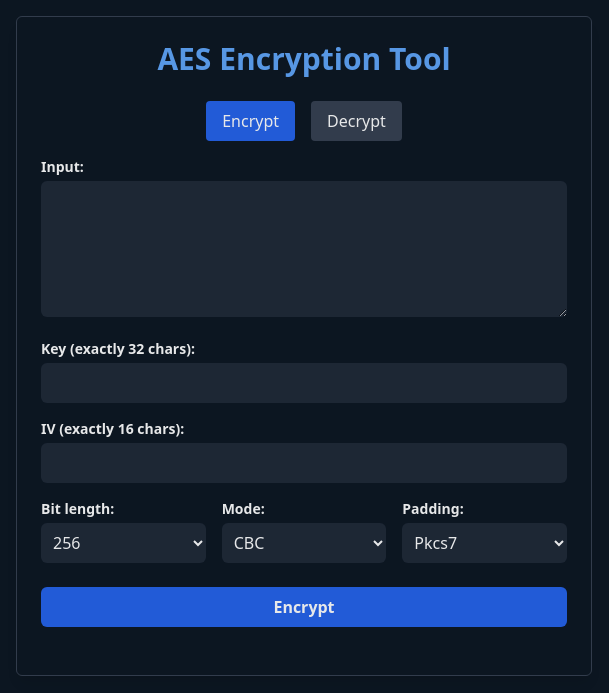
Scenario: EncryptionTool component › does not show IV input in ECB mode
# change mode to ECB
Select "ECB" in the dropdown labelled "Mode:" at (304, 543), box [222,523,386,563]
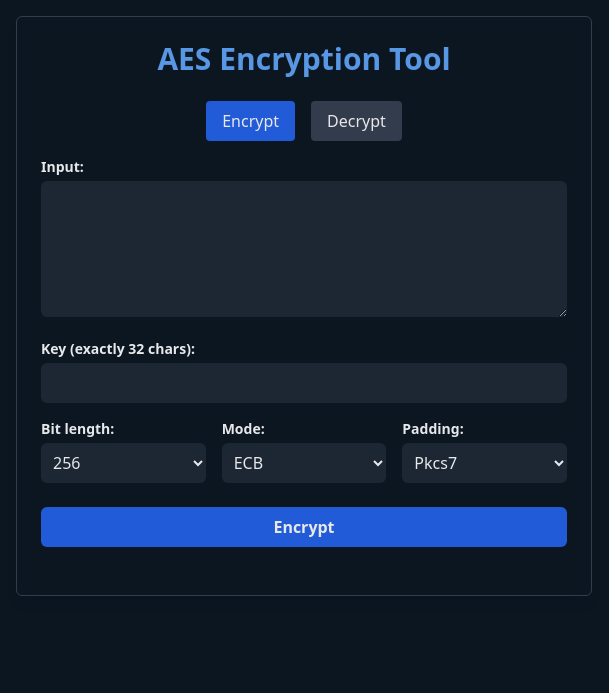
Now the label labelled "IV (exactly 16 chars):" is gone
